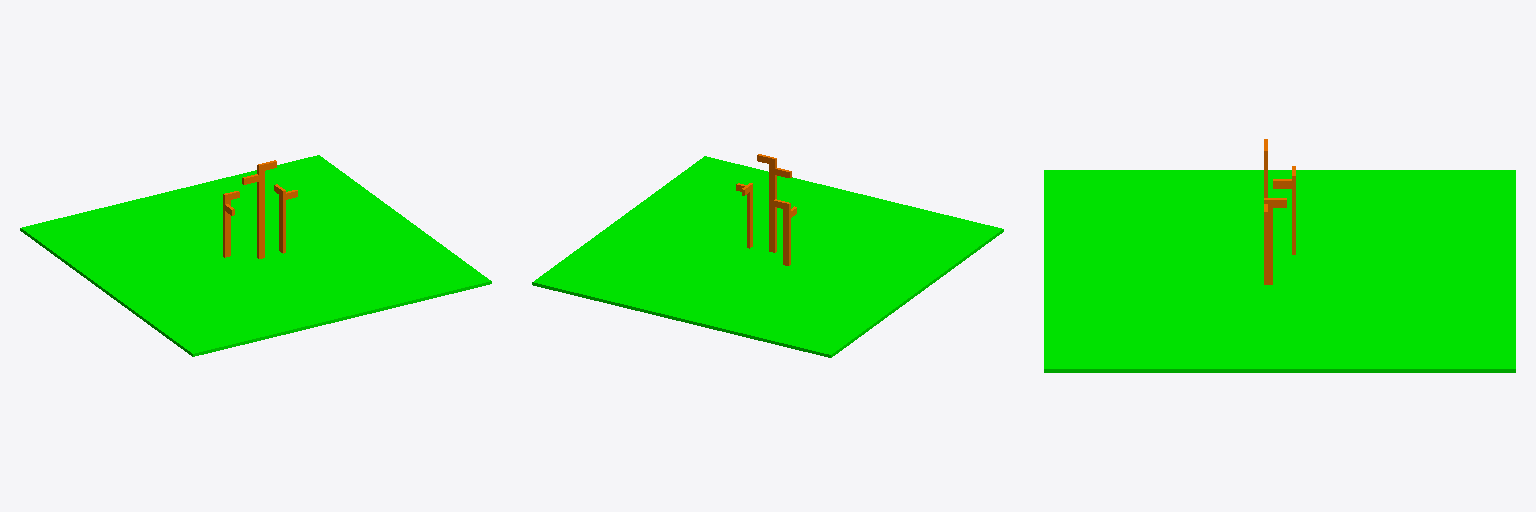
robot.urdf — scene_mingruiyu_0:
<?xml version="1.0" ?>
<!-- =================================================================================== -->
<!-- |    This document was autogenerated by xacro from scene_mingruiyu_6.xacro        | -->
<!-- |    EDITING THIS FILE BY HAND IS NOT RECOMMENDED                                 | -->
<!-- =================================================================================== -->
<robot name="scene_mingruiyu_0">
  <material name="dark_gray">
    <color rgba="0.2 0.2 0.2 1.0"/>
  </material>
  <material name="gray">
    <color rgba="0.3 0.3 0.3 1.0"/>
  </material>
  <material name="light_gray">
    <color rgba="0.4 0.4 0.4 1.0"/>
  </material>
  <material name="yellow">
    <color rgba="0.8 0.8 0.0 1.0"/>
  </material>
  <material name="orange">
    <color rgba="1.0 0.5 0.0 1.0"/>
  </material>
  <material name="green">
    <color rgba="0.0 1.0 0.0 1.0"/>
  </material>
  <material name="teal">
    <color rgba="0.0 1.0 1.0 1.0"/>
  </material>
  <material name="black">
    <color rgba="0.15 0.15 0.15 1.0"/>
  </material>
  <!-- GROUND PLANE -->
  <link name="ground_plane">
    <visual>
      <geometry>
        <box size="1 1 0.01"/>
      </geometry>
      <origin rpy="0 0 0" xyz="0 0 -0.005"/>
      <material name="green"/>
    </visual>
    <collision>
      <geometry>
        <box size="1 1 0.01"/>
      </geometry>
      <origin rpy="0 0 0" xyz="0 0 -0.005"/>
    </collision>
  </link>
  <!-- OBSTACLES (created from rectangle poles) -->
  <!-- Creted link has the name: prefix+"_root_link" -->
  <link name="pole_1_root_link">
    <visual>
      <geometry>
        <box size="0.02 0.01 0.3"/>
      </geometry>
      <origin rpy="0 0 0" xyz="0 0 0.15"/>
      <material name="orange"/>
    </visual>
    <collision>
      <geometry>
        <box size="0.02 0.01 0.3"/>
      </geometry>
      <origin rpy="0 0 0" xyz="0 0 0.15"/>
    </collision>
  </link>
  <joint name="pole_1_fixture_joint" type="fixed">
    <parent link="ground_plane"/>
    <child link="pole_1_root_link"/>
    <origin rpy="0 0 0" xyz="0.0 -0.03 0.0"/>
  </joint>
  <link name="pole_1_attachment_1_root_link">
    <visual>
      <geometry>
        <box size="0.02 0.01 0.04"/>
      </geometry>
      <origin rpy="0 0 0" xyz="0 0 0.02"/>
      <material name="orange"/>
    </visual>
    <collision>
      <geometry>
        <box size="0.02 0.01 0.04"/>
      </geometry>
      <origin rpy="0 0 0" xyz="0 0 0.02"/>
    </collision>
  </link>
  <joint name="pole_1_attachment_1_fixture_joint" type="fixed">
    <parent link="pole_1_root_link"/>
    <child link="pole_1_attachment_1_root_link"/>
    <origin rpy="0 1.5707963267948966 0" xyz="0.01 0.0 0.29"/>
  </joint>
  <link name="pole_1_attachment_2_root_link">
    <visual>
      <geometry>
        <box size="0.02 0.01 0.05"/>
      </geometry>
      <origin rpy="0 0 0" xyz="0 0 0.025"/>
      <material name="orange"/>
    </visual>
    <collision>
      <geometry>
        <box size="0.02 0.01 0.05"/>
      </geometry>
      <origin rpy="0 0 0" xyz="0 0 0.025"/>
    </collision>
  </link>
  <joint name="pole_1_attachment_2_fixture_joint" type="fixed">
    <parent link="pole_1_root_link"/>
    <child link="pole_1_attachment_2_root_link"/>
    <origin rpy="0 -1.5707963267948966 0" xyz="-0.01 0.0 0.26"/>
  </joint>
  <!-- ====================== POLE 1 : END ====================== -->
  <link name="pole_2_root_link">
    <visual>
      <geometry>
        <box size="0.01 0.02 0.2"/>
      </geometry>
      <origin rpy="0 0 0" xyz="0 0 0.1"/>
      <material name="orange"/>
    </visual>
    <collision>
      <geometry>
        <box size="0.01 0.02 0.2"/>
      </geometry>
      <origin rpy="0 0 0" xyz="0 0 0.1"/>
    </collision>
  </link>
  <joint name="pole_2_fixture_joint" type="fixed">
    <parent link="ground_plane"/>
    <child link="pole_2_root_link"/>
    <origin rpy="0 0 0" xyz="0.075 -0.025 0.0"/>
  </joint>
  <link name="pole_2_attachment_1_root_link">
    <visual>
      <geometry>
        <box size="0.02 0.01 0.04"/>
      </geometry>
      <origin rpy="0 0 0" xyz="0 0 0.02"/>
      <material name="orange"/>
    </visual>
    <collision>
      <geometry>
        <box size="0.02 0.01 0.04"/>
      </geometry>
      <origin rpy="0 0 0" xyz="0 0 0.02"/>
    </collision>
  </link>
  <joint name="pole_2_attachment_1_fixture_joint" type="fixed">
    <parent link="pole_2_root_link"/>
    <child link="pole_2_attachment_1_root_link"/>
    <origin rpy="0 1.5707963267948966 0" xyz="0.005 -0.005 0.18"/>
  </joint>
  <link name="pole_2_attachment_2_root_link">
    <visual>
      <geometry>
        <box size="0.01 0.02 0.03"/>
      </geometry>
      <origin rpy="0 0 0" xyz="0 0 0.015"/>
      <material name="orange"/>
    </visual>
    <collision>
      <geometry>
        <box size="0.01 0.02 0.03"/>
      </geometry>
      <origin rpy="0 0 0" xyz="0 0 0.015"/>
    </collision>
  </link>
  <joint name="pole_2_attachment_2_fixture_joint" type="fixed">
    <parent link="pole_2_root_link"/>
    <child link="pole_2_attachment_2_root_link"/>
    <origin rpy="-1.5707963267948966 0 0" xyz="0.0 0.01 0.19"/>
  </joint>
  <!-- ====================== POLE 2 : END ====================== -->
  <link name="pole_3_root_link">
    <visual>
      <geometry>
        <box size="0.01 0.02 0.2"/>
      </geometry>
      <origin rpy="0 0 0" xyz="0 0 0.1"/>
      <material name="orange"/>
    </visual>
    <collision>
      <geometry>
        <box size="0.01 0.02 0.2"/>
      </geometry>
      <origin rpy="0 0 0" xyz="0 0 0.1"/>
    </collision>
  </link>
  <joint name="pole_3_fixture_joint" type="fixed">
    <parent link="ground_plane"/>
    <child link="pole_3_root_link"/>
    <origin rpy="0 0 -1.5707963267948966" xyz="-0.08 0.03 0.0"/>
  </joint>
  <link name="pole_3_attachment_1_root_link">
    <visual>
      <geometry>
        <box size="0.02 0.01 0.04"/>
      </geometry>
      <origin rpy="0 0 0" xyz="0 0 0.02"/>
      <material name="orange"/>
    </visual>
    <collision>
      <geometry>
        <box size="0.02 0.01 0.04"/>
      </geometry>
      <origin rpy="0 0 0" xyz="0 0 0.02"/>
    </collision>
  </link>
  <joint name="pole_3_attachment_1_fixture_joint" type="fixed">
    <parent link="pole_3_root_link"/>
    <child link="pole_3_attachment_1_root_link"/>
    <origin rpy="0 1.5707963267948966 0" xyz="0.005 -0.005 0.16"/>
  </joint>
  <link name="pole_3_attachment_2_root_link">
    <visual>
      <geometry>
        <box size="0.01 0.02 0.03"/>
      </geometry>
      <origin rpy="0 0 0" xyz="0 0 0.015"/>
      <material name="orange"/>
    </visual>
    <collision>
      <geometry>
        <box size="0.01 0.02 0.03"/>
      </geometry>
      <origin rpy="0 0 0" xyz="0 0 0.015"/>
    </collision>
  </link>
  <joint name="pole_3_attachment_2_fixture_joint" type="fixed">
    <parent link="pole_3_root_link"/>
    <child link="pole_3_attachment_2_root_link"/>
    <origin rpy="-1.5707963267948966 0 0" xyz="0.0 0.01 0.19"/>
  </joint>
  <!-- ====================== POLE 3 : END ====================== -->
</robot>

--- What the picture shows (computed from the rendered views, not written in the file) ---
Views: 3 orthographic renders of the robot side by side, from view 1: azimuth 30°, elevation 25°; view 2: azimuth 150°, elevation 25°; view 3: azimuth 270°, elevation 25°.
Robot: scene_mingruiyu_0 — 10 links, 9 joints (9 fixed); root link ground_plane; default pose: all joints at 0.
Visible links, largest first — view 1: ground_plane, pole_1_root_link; view 2: ground_plane, pole_1_root_link; view 3: ground_plane, pole_2_root_link.
Boxes of the visible links, x1=… form: ground_plane: x1=20, y1=155, x2=491, y2=356; pole_1_root_link: x1=257, y1=163, x2=264, y2=258; ground_plane: x1=532, y1=156, x2=1003, y2=357; pole_1_root_link: x1=769, y1=157, x2=776, y2=252; ground_plane: x1=1044, y1=170, x2=1515, y2=372; pole_2_root_link: x1=1264, y1=198, x2=1272, y2=284.
Bounding box of the posed robot: 1 × 1 × 0.31 m (x, y, z).
Geometry: primitives only (box / cylinder / sphere), no mesh files.
